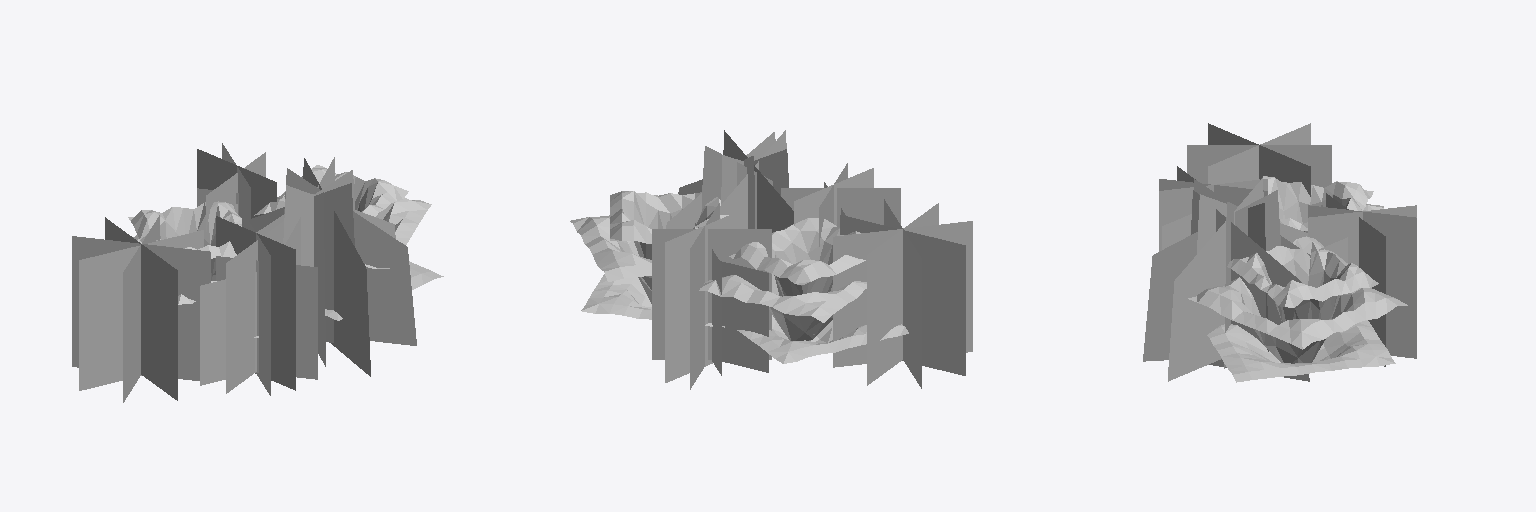
File: pasto.obj
3 renders of one model, left to right at view 1: azimuth 30°, elevation 25°; view 2: azimuth 150°, elevation 25°; view 3: azimuth 270°, elevation 25°, orthographic.
Visible parts, largest first — view 1: pPlane7_lambert7, pPlane16_lambert7, pPlane8_lambert7, pPlane10_lambert7, pPlane15_lambert7, pPlane18_lambert7, pPlane12_lambert7, pPlane3_lambert6, pPlane11_lambert7, pPlane14_lambert7, pPlane9_lambert7, pPlane23_lambert7 (+11 smaller); view 2: pPlane7_lambert7, pPlane3_lambert6, pPlane9_lambert7, pPlane8_lambert7, pPlane25_lambert7, pPlane1_lambert6, pPlane26_lambert7, pPlane5_lambert6, pPlane28_lambert7, pPlane6_lambert6, pPlane10_lambert7, pPlane2_lambert6 (+13 smaller); view 3: pPlane6_lambert6, pPlane5_lambert6, pPlane16_lambert7, pPlane4_lambert6, pPlane25_lambert7, pPlane18_lambert7, pPlane17_lambert7, pPlane3_lambert6, pPlane8_lambert7, pPlane24_lambert7, pPlane26_lambert7, pPlane10_lambert7 (+6 smaller).
Part boxes in pixels (left/top/right/bottom): pPlane7_lambert7: left=79, top=230, right=203, bottom=390; pPlane16_lambert7: left=284, top=168, right=416, bottom=345; pPlane8_lambert7: left=105, top=217, right=177, bottom=400; pPlane10_lambert7: left=72, top=236, right=210, bottom=380; pPlane15_lambert7: left=216, top=216, right=295, bottom=390; pPlane18_lambert7: left=303, top=158, right=370, bottom=376; pPlane12_lambert7: left=226, top=221, right=283, bottom=393; pPlane3_lambert6: left=128, top=201, right=241, bottom=280; pPlane11_lambert7: left=216, top=256, right=317, bottom=379; pPlane14_lambert7: left=200, top=272, right=256, bottom=385; pPlane9_lambert7: left=123, top=215, right=159, bottom=402; pPlane23_lambert7: left=249, top=183, right=354, bottom=342; pPlane7_lambert7: left=840, top=215, right=965, bottom=375; pPlane3_lambert6: left=729, top=218, right=865, bottom=334; pPlane9_lambert7: left=833, top=221, right=972, bottom=367; pPlane8_lambert7: left=867, top=203, right=938, bottom=385; pPlane25_lambert7: left=665, top=209, right=744, bottom=382; pPlane1_lambert6: left=699, top=274, right=866, bottom=340; pPlane26_lambert7: left=652, top=229, right=771, bottom=359; pPlane5_lambert6: left=610, top=191, right=728, bottom=259; pPlane28_lambert7: left=720, top=261, right=768, bottom=372; pPlane6_lambert6: left=570, top=215, right=651, bottom=303; pPlane10_lambert7: left=884, top=199, right=921, bottom=388; pPlane2_lambert6: left=737, top=315, right=908, bottom=363; pPlane6_lambert6: left=1188, top=277, right=1407, bottom=363; pPlane5_lambert6: left=1225, top=236, right=1378, bottom=322; pPlane16_lambert7: left=1168, top=178, right=1263, bottom=381; pPlane4_lambert6: left=1207, top=320, right=1395, bottom=382; pPlane25_lambert7: left=1308, top=205, right=1416, bottom=358; pPlane18_lambert7: left=1143, top=190, right=1280, bottom=361; pPlane17_lambert7: left=1191, top=190, right=1309, bottom=381; pPlane3_lambert6: left=1259, top=176, right=1373, bottom=232; pPlane8_lambert7: left=1187, top=145, right=1331, bottom=187; pPlane24_lambert7: left=1308, top=205, right=1416, bottom=266; pPlane26_lambert7: left=1326, top=193, right=1385, bottom=366; pPlane10_lambert7: left=1208, top=123, right=1310, bottom=184.
Bounding box in the file's own units: 0.308 × 0.1398 × 0.1952.